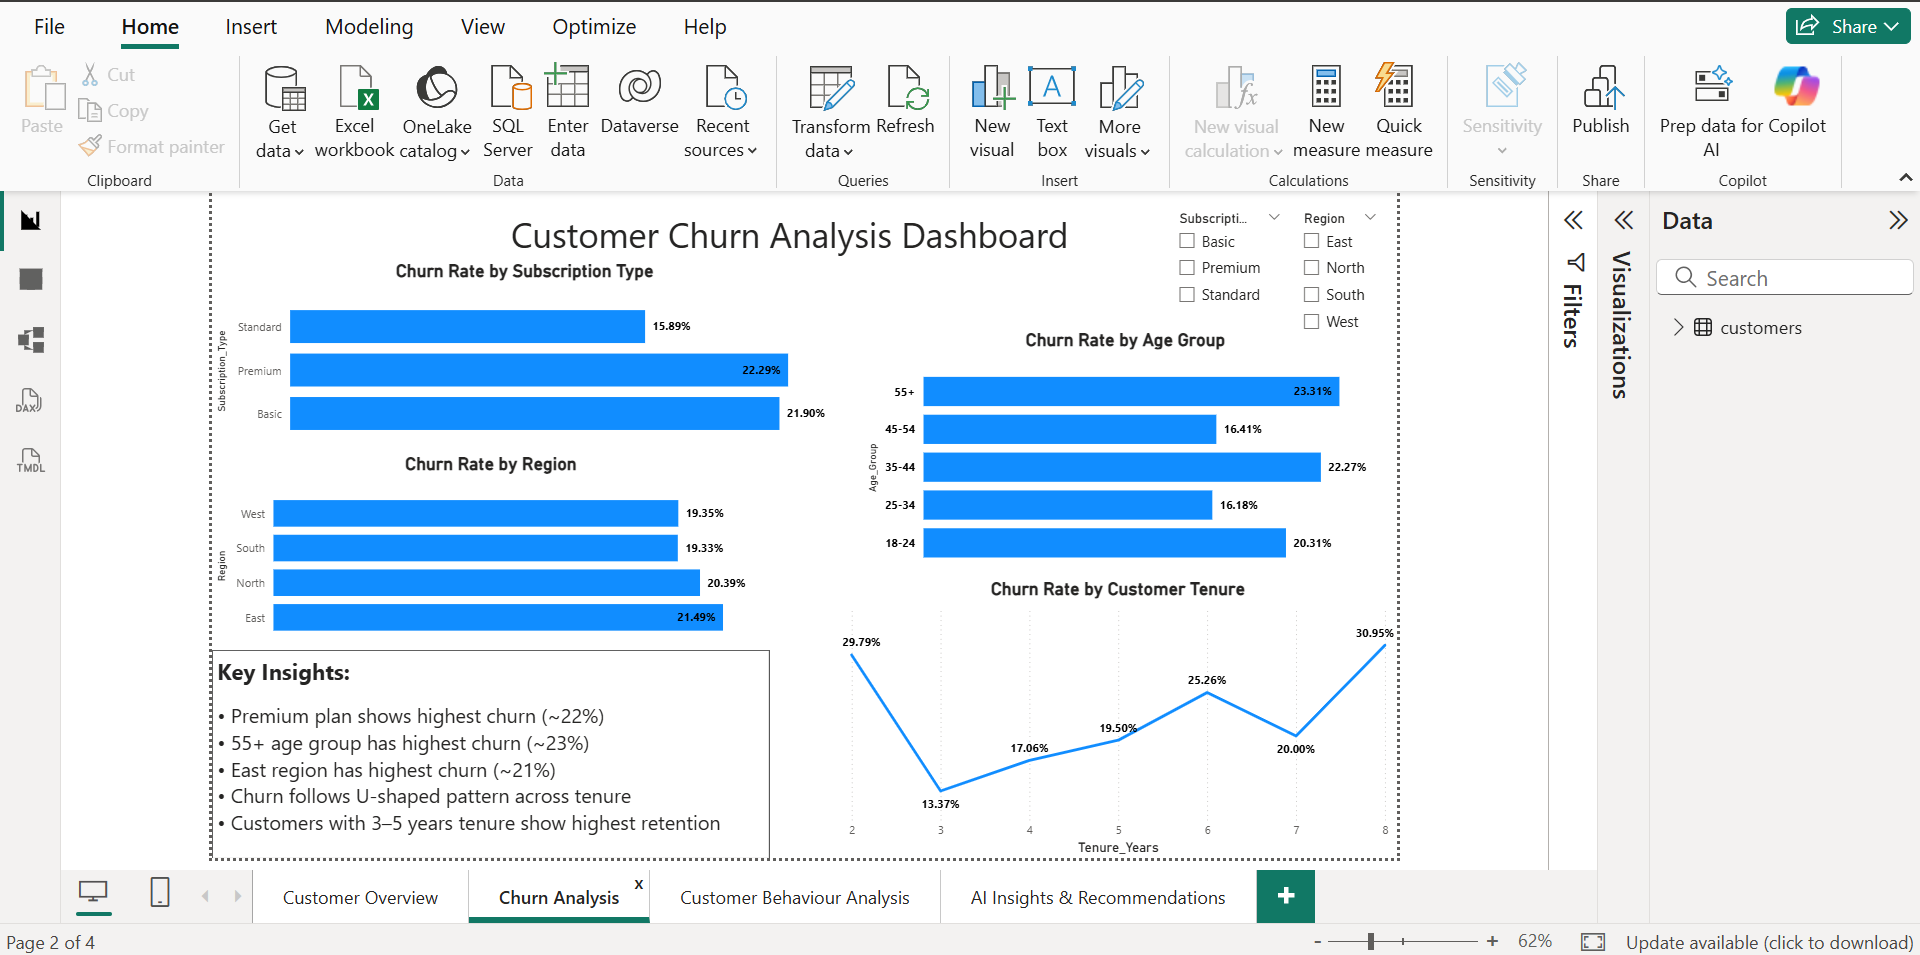

This screenshot's page, from the dashboard's own definition file:
{"tool":"powerbi","page":{"name":"Churn Analysis","canvas":[1280,720],"ordinal":1},"visuals":[{"type":"textbox","box":[9.7,16.2,1227.4,81],"z":0},{"type":"clusteredBarChart","title":"Churn Rate by Subscription Type","fields":{"Category":["customers.Subscription_Type"],"Y":["customers.Churn Rate %"]},"box":[0,74.5,675.2,208.9],"z":1000},{"type":"clusteredBarChart","title":"Churn Rate by Age Group","fields":{"Category":["customers.Age_Group"],"Y":["customers.Churn Rate %"]},"box":[702.7,149,566.7,268.8],"z":2000},{"type":"lineChart","title":"Churn Rate by Customer Tenure","fields":{"Category":["customers.Tenure_Years"],"Y":["customers.Churn Rate %"]},"box":[675.2,417.8,605.6,302.8],"z":3000},{"type":"clusteredBarChart","title":"Churn Rate  by Region","fields":{"Category":["customers.Region"],"Y":["customers.Churn Rate %"]},"box":[0,283.4,602.4,212.1],"z":4000},{"type":"slicer","fields":{"Values":["customers.Region"]},"box":[1165.8,16.2,103.6,147.3],"z":5000},{"type":"slicer","fields":{"Values":["customers.Subscription_Type"]},"box":[1031.4,16.2,134.4,116.6],"z":6000},{"type":"textbox","box":[0,495,602,225],"z":7000}]}

Visuals, with their boxes on the page's 1280x720 design canvas (x1, y1, x2, y2). These are canvas units, not pixel positions in the 1920x955 screenshot, which may show the page scaled, cropped or inside an application window:
textbox: x1=10 y1=16 x2=1237 y2=97
"Churn Rate by Subscription Type" clusteredBarChart: x1=0 y1=74 x2=675 y2=283
"Churn Rate by Age Group" clusteredBarChart: x1=703 y1=149 x2=1269 y2=418
"Churn Rate by Customer Tenure" lineChart: x1=675 y1=418 x2=1281 y2=721
"Churn Rate  by Region" clusteredBarChart: x1=0 y1=283 x2=602 y2=496
slicer - customers.Region: x1=1166 y1=16 x2=1269 y2=164
slicer - customers.Subscription_Type: x1=1031 y1=16 x2=1166 y2=133
textbox: x1=0 y1=495 x2=602 y2=720
